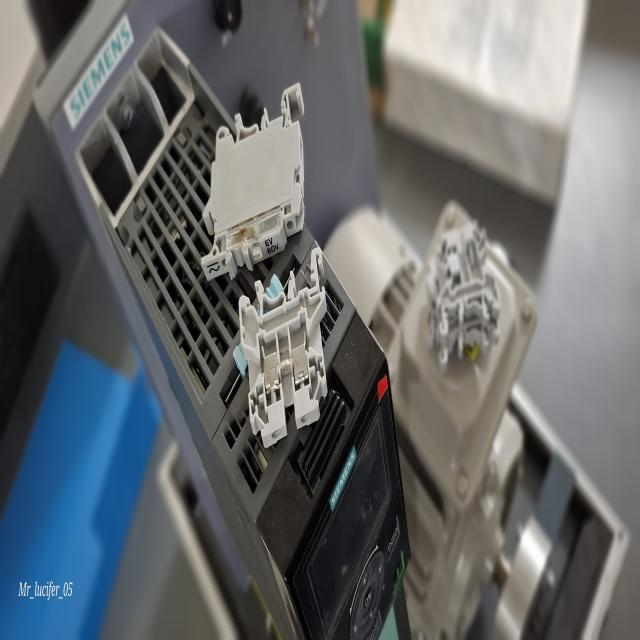Pass: (234, 237, 332, 449)
Reject: (431, 215, 502, 326)
